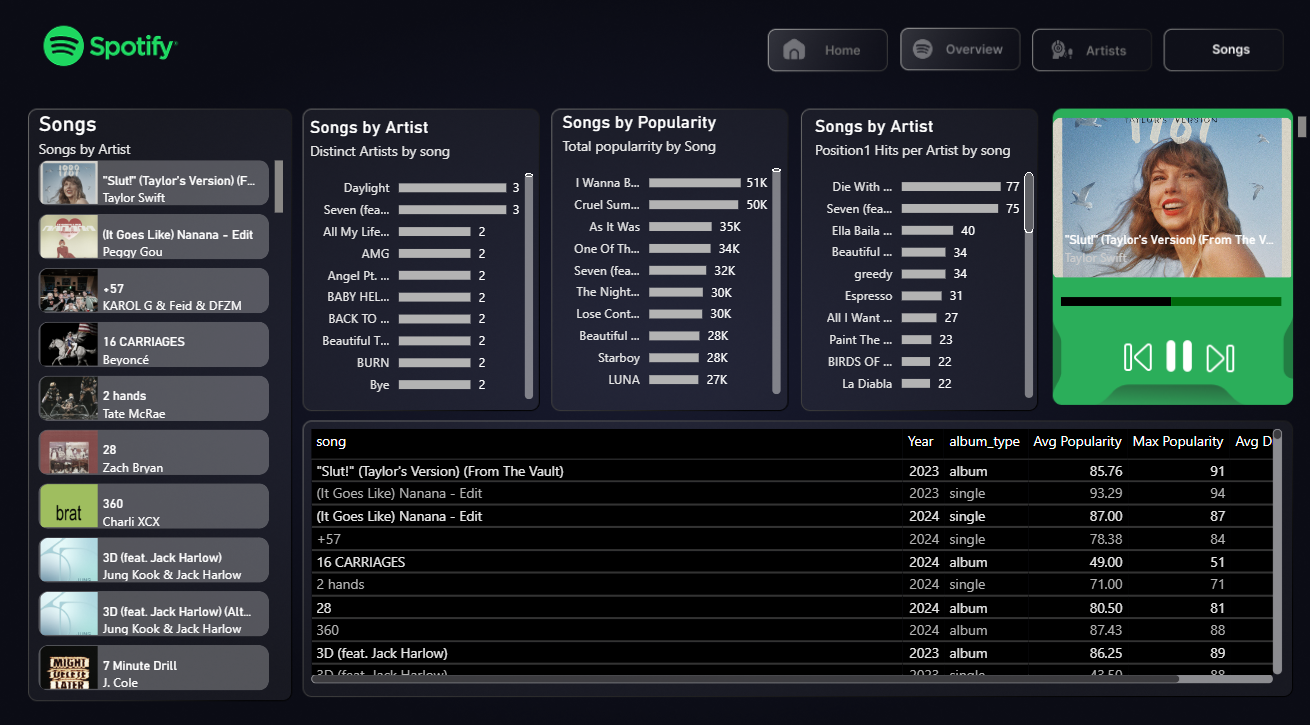

The dashboard page shown, as its layout file describes it:
{"tool":"powerbi","page":{"name":"Songs","canvas":[1280,720],"ordinal":3},"visuals":[{"type":"actionButton","box":[751.4,33.3,106.2,39.8],"z":0},{"type":"actionButton","box":[878,34.5,106.2,39.8],"z":1000},{"type":"actionButton","box":[1005.9,33.3,106.2,39.8],"z":2000},{"type":"actionButton","box":[1133.8,34.5,106.2,39.8],"z":3000},{"type":"advancedSlicerVisual","title":"Songs ","fields":{"Values":["Top-50-World.song"]},"box":[1013.4,113.4,257,167.7],"z":4000},{"type":"barChart","fields":{"Y":["Avg(Top-50-World.popularity)","_Measures.Avg Popularity"]},"box":[1023.1,261.8,247.3,65.1],"z":5000},{"type":"image","box":[1162.2,331.5,39.8,39.8],"z":6000},{"type":"image","box":[1122.4,329.1,39.8,39.8],"z":7000},{"type":"image","box":[1082.6,330.3,39.8,39.8],"z":8000},{"type":"shape","box":[1019.4,113.4,246.1,284.7],"z":9000},{"type":"advancedSlicerVisual","title":"Songs ","fields":{"Values":["Top-50-World.song"]},"box":[36.2,113.4,246.1,569.4],"z":10000},{"type":"tableEx","title":"Songs by Artist","fields":{"Values":["Top-50-World.song","Top-50-World.date.Variation.Date Hierarchy.Year","Top-50-World.album_type","_Measures.Avg Popularity","_Measures.Max Popularity","_Measures.Avg Duration Minutes"]},"box":[298,415,948.3,255.8],"z":11000},{"type":"clusteredBarChart","title":"Songs by Artist","fields":{"Category":["Top-50-World.song"],"Y":["_Measures.Position1 Hits per Artist"]},"box":[785.4,117,220.8,277.5],"z":12000},{"type":"clusteredBarChart","title":"Songs by Artist","fields":{"Category":["Top-50-World.song"],"Y":["_Measures.Distinct Artists"]},"box":[298,118.2,225.6,277.5],"z":13000},{"type":"clusteredBarChart","title":"Songs by Popularity","fields":{"Y":["Sum(Top-50-World.popularity)"],"Category":["Top-50-World.song"]},"box":[541.7,113.4,220.8,277.5],"z":14000}]}

Visuals, with their boxes in screenshot pixels (x1, y1, x2, y2), scaled from the page's 1280x720 canvas onto the 1310x725 screenshot:
actionButton: <bbox>769, 34, 878, 74</bbox>
actionButton: <bbox>899, 35, 1007, 75</bbox>
actionButton: <bbox>1029, 34, 1138, 74</bbox>
actionButton: <bbox>1160, 35, 1269, 75</bbox>
"Songs " advancedSlicerVisual: <bbox>1037, 114, 1300, 283</bbox>
barChart - Avg(Top-50-World.popularity) x _Measures.Avg Popularity: <bbox>1047, 264, 1300, 329</bbox>
image: <bbox>1189, 334, 1230, 374</bbox>
image: <bbox>1149, 331, 1189, 371</bbox>
image: <bbox>1108, 333, 1149, 373</bbox>
shape: <bbox>1043, 114, 1295, 401</bbox>
"Songs " advancedSlicerVisual: <bbox>37, 114, 289, 688</bbox>
"Songs by Artist" tableEx: <bbox>305, 418, 1276, 675</bbox>
"Songs by Artist" clusteredBarChart: <bbox>804, 118, 1030, 397</bbox>
"Songs by Artist" clusteredBarChart: <bbox>305, 119, 536, 398</bbox>
"Songs by Popularity" clusteredBarChart: <bbox>554, 114, 780, 394</bbox>
